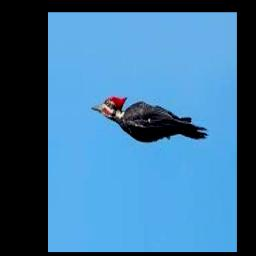Woodpecker: (92, 95, 209, 143)
